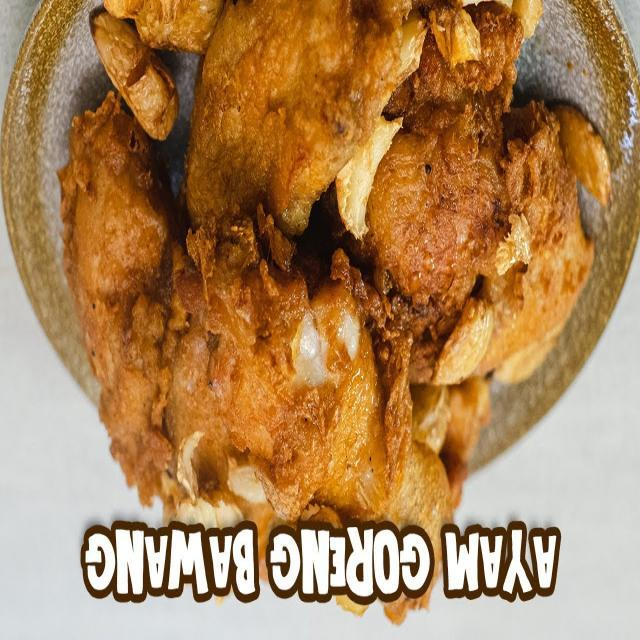ayam_goreng: (45, 16, 588, 584)
